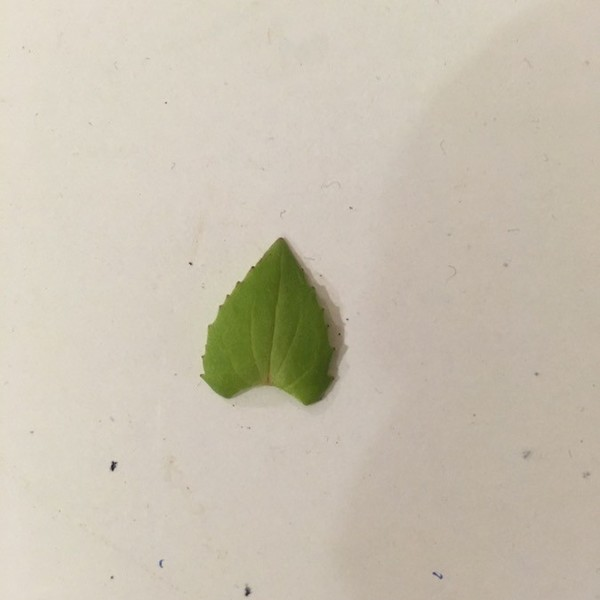obstacle: (172, 225, 372, 419)
